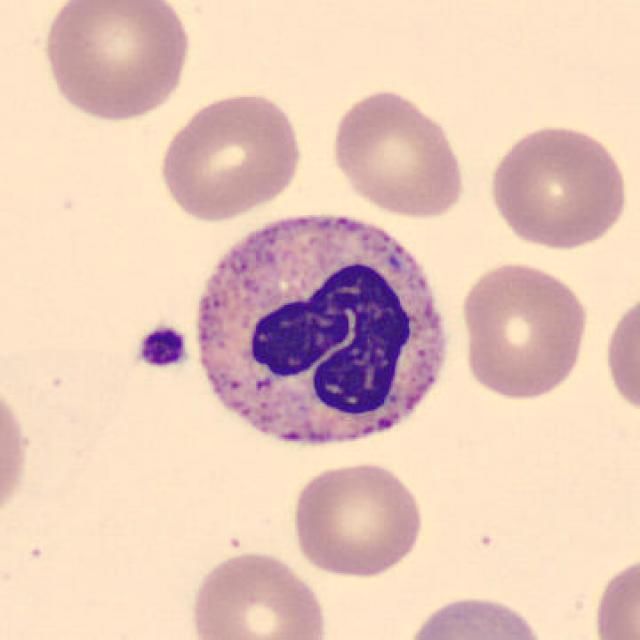Neutrophil: (182, 198, 460, 468)
Platelets: (132, 321, 192, 372)
RBC: (153, 86, 306, 224), (455, 257, 592, 402), (38, 0, 196, 125), (484, 118, 631, 252), (327, 85, 469, 222), (286, 457, 427, 580), (187, 548, 331, 640), (398, 590, 552, 640), (0, 374, 34, 532), (601, 286, 638, 422), (590, 550, 638, 640)
